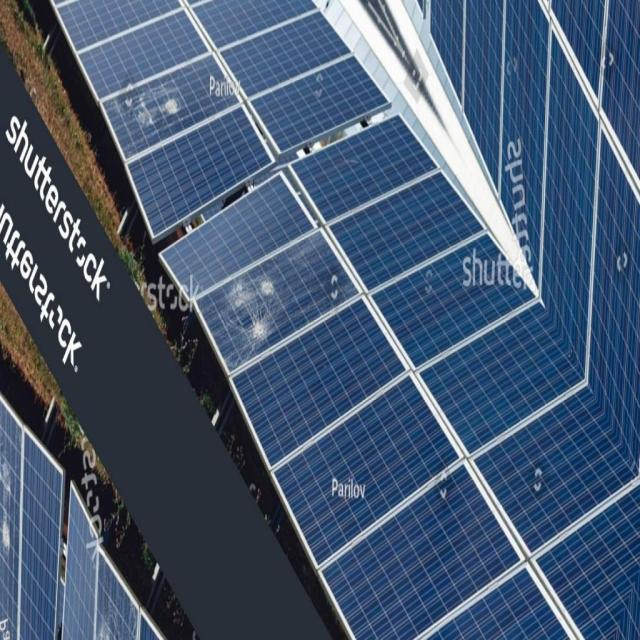cracked: (180, 228, 369, 366), (83, 60, 244, 144), (1, 404, 32, 640), (86, 552, 142, 640)
